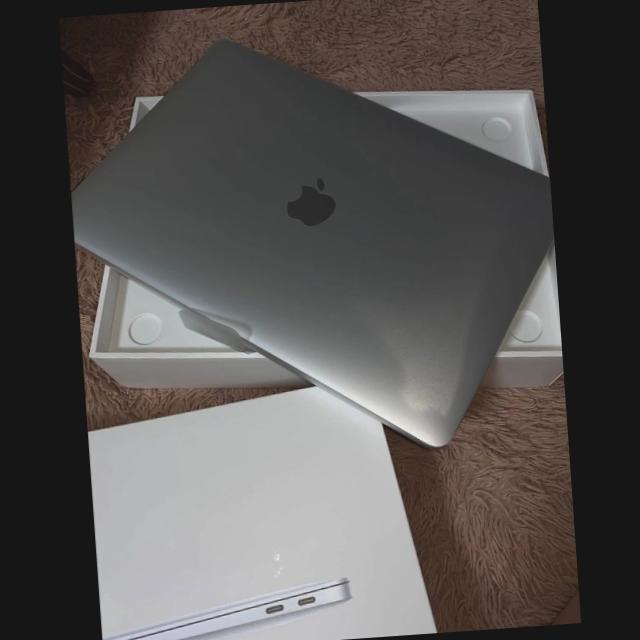laptop: (72, 39, 554, 446)
